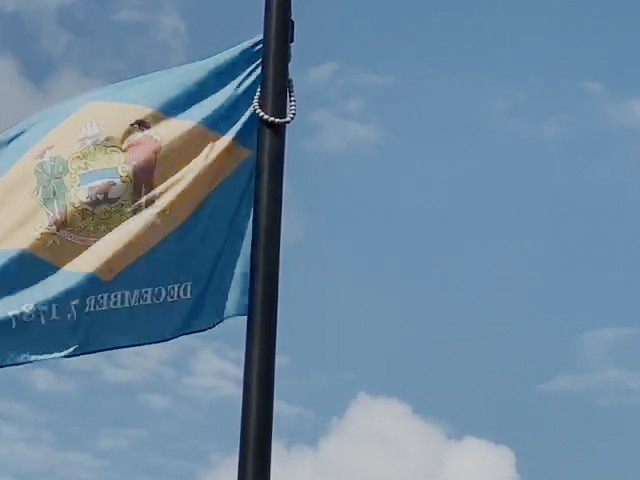Delaware flag: (1, 33, 262, 374)
